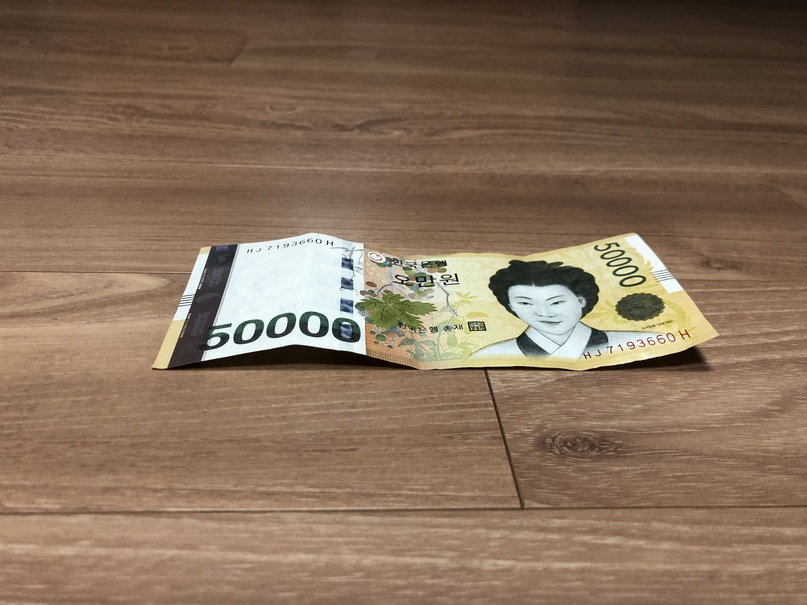50000won: (152, 231, 719, 370)
